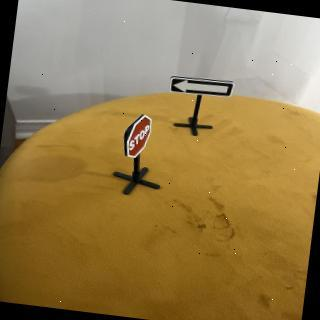sign_oneway_left: (169, 74, 237, 102)
sign_stop: (125, 112, 156, 163)
